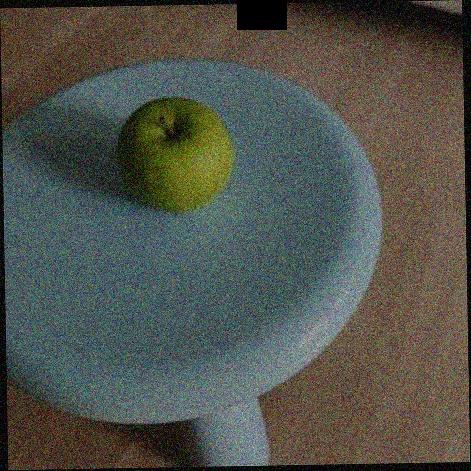green apple: (116, 96, 238, 215)
